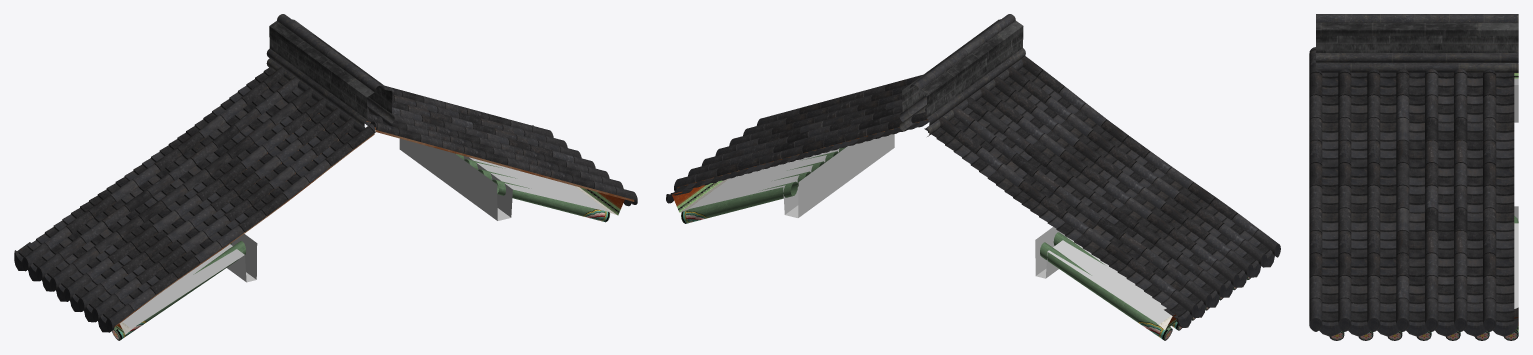
Rendered from SM_Giwa02B_a12.fbx.
3 renders of one model, left to right at view 1: azimuth 30°, elevation 25°; view 2: azimuth 150°, elevation 25°; view 3: azimuth 270°, elevation 25°, orthographic. The views are drawn at different scales.
Parts seen in each view (by area): view 1: SM_Giwa02B_a12; view 2: SM_Giwa02B_a12; view 3: SM_Giwa02B_a12.
Part boxes in pixels (left/top/right/bottom): SM_Giwa02B_a12: left=14, top=14, right=637, bottom=340; SM_Giwa02B_a12: left=666, top=14, right=1280, bottom=340; SM_Giwa02B_a12: left=1309, top=14, right=1518, bottom=340.
Size of the model in its own units: 668 by 222 by 243.
